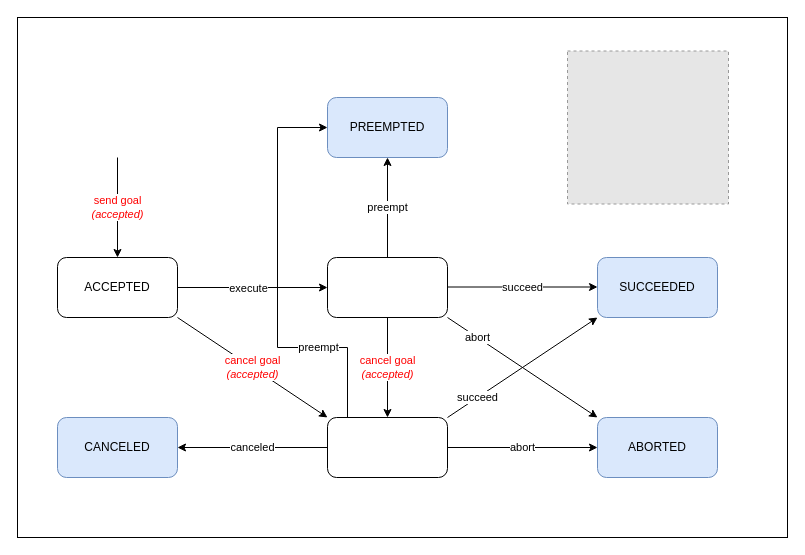
Some shapes in this 805 by 555 pixel diagram are drawn without their labels. Grey dashed boxes stand in for pictures. The shapes that lost their labels are listed below. From the top down, each one's centre as x and y in pixels, then its label:
At point (387, 287): "EXECUTING".
At point (387, 447): "CANCELING".
